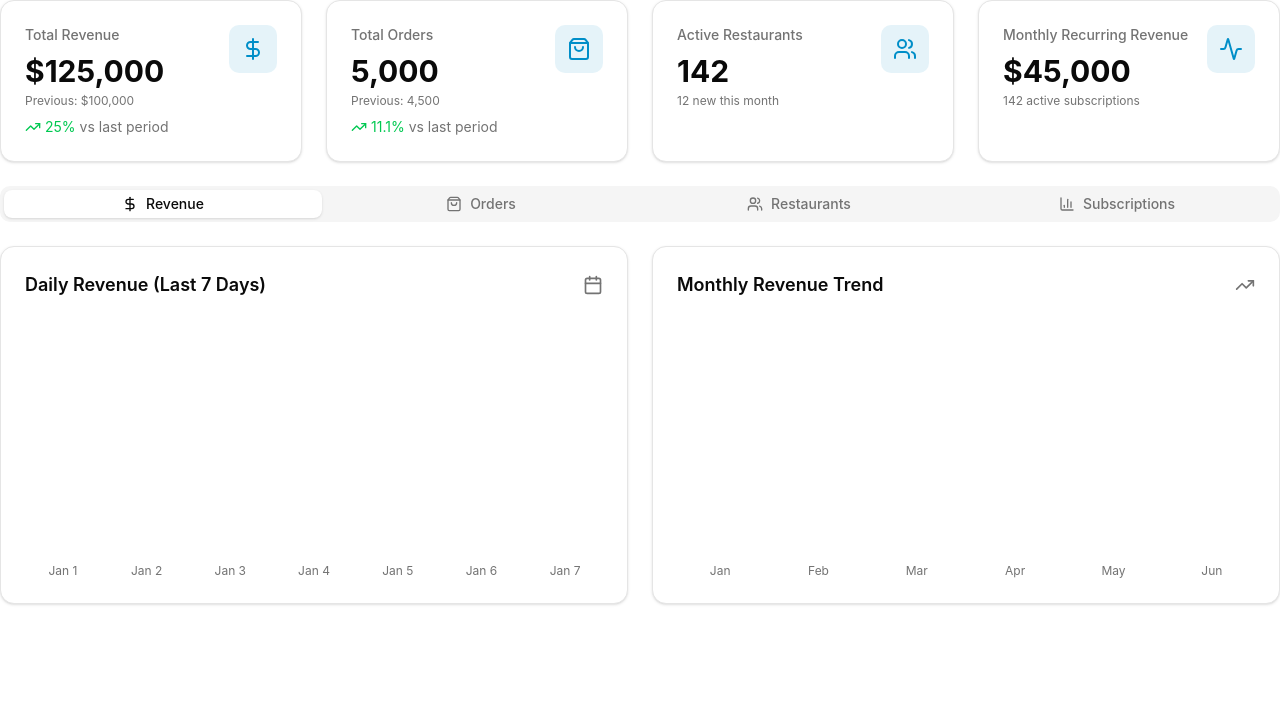
it: PlatformAnalytics › displays subscription plan distribution
Note: Switch to subscriptions tab
Click the tab "Subscriptions". click: (1117, 204)
box: [958, 190, 1276, 218]
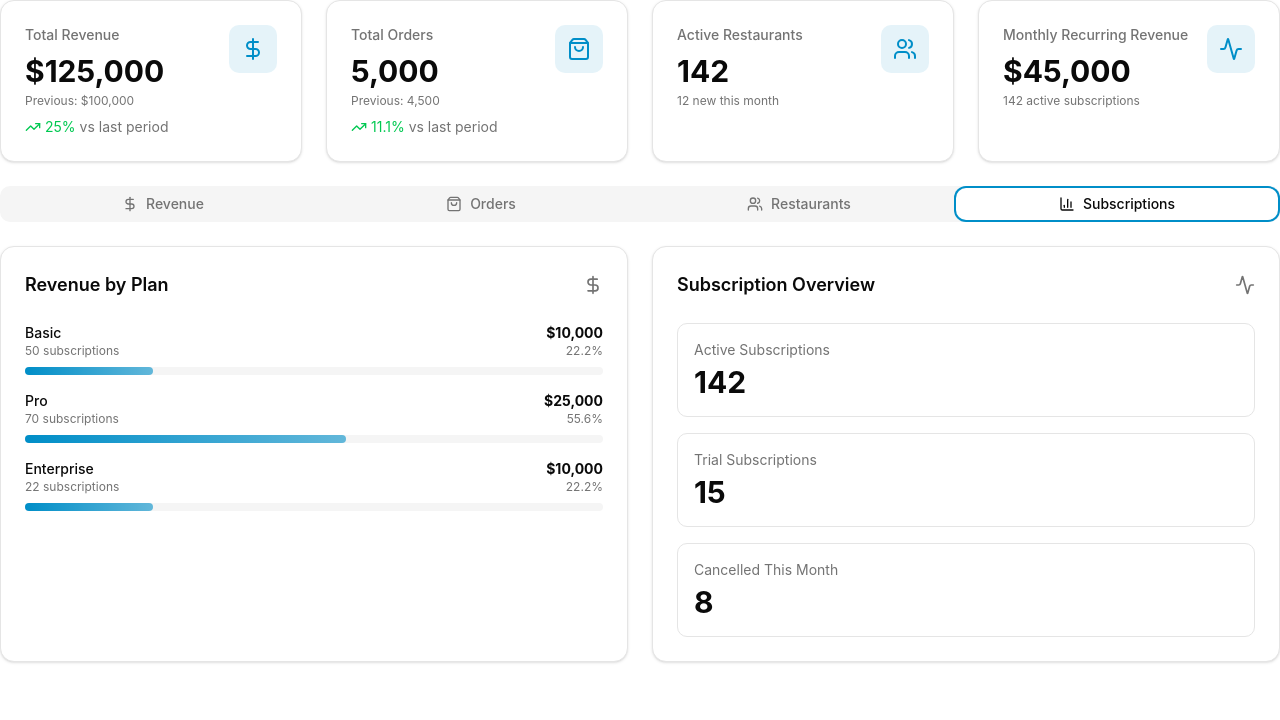
expect the text "Basic" is shown: met, box [25, 324, 61, 341]
expect the text "Pro" is shown: met, box [25, 392, 48, 409]
expect the text "Enterprise" is shown: met, box [25, 460, 94, 477]
